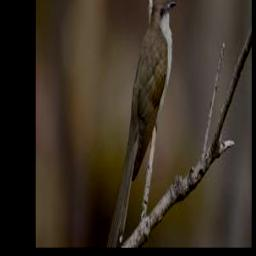Cuckoo: (107, 0, 177, 248)
